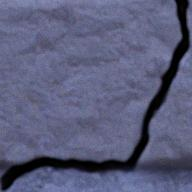broken_brick: (0, 0, 181, 163), (138, 0, 191, 165)
crack: (0, 0, 189, 191)
